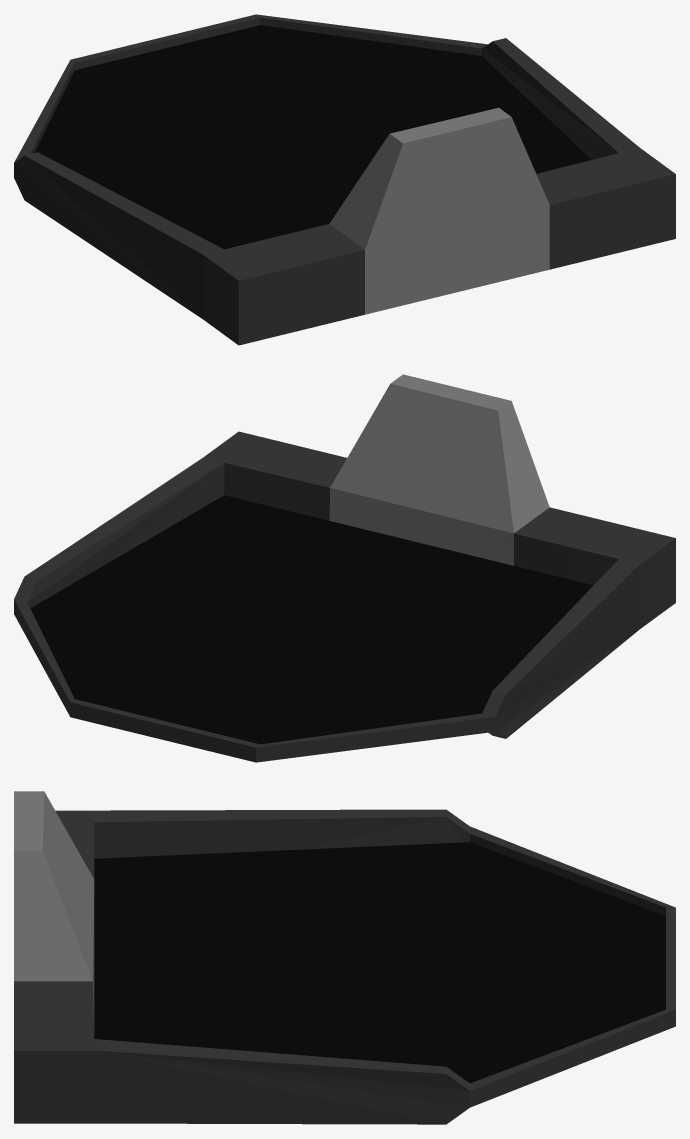
Rendered from Veh_HUD_1X1.FBX.
3 renders of one model, top to bottom at view 1: azimuth 30°, elevation 25°; view 2: azimuth 150°, elevation 25°; view 3: azimuth 270°, elevation 25°, orthographic. The views are drawn at different scales.
Visible parts, largest first — view 1: Box002; view 2: Box002; view 3: Box002.
Boxes of the visible parts, left/top/right/bottom form: Box002: left=14, top=14, right=675, bottom=345; Box002: left=14, top=374, right=675, bottom=762; Box002: left=14, top=791, right=675, bottom=1124.
Size of the model in its own units: 1.56 by 0.5 by 1.65.
